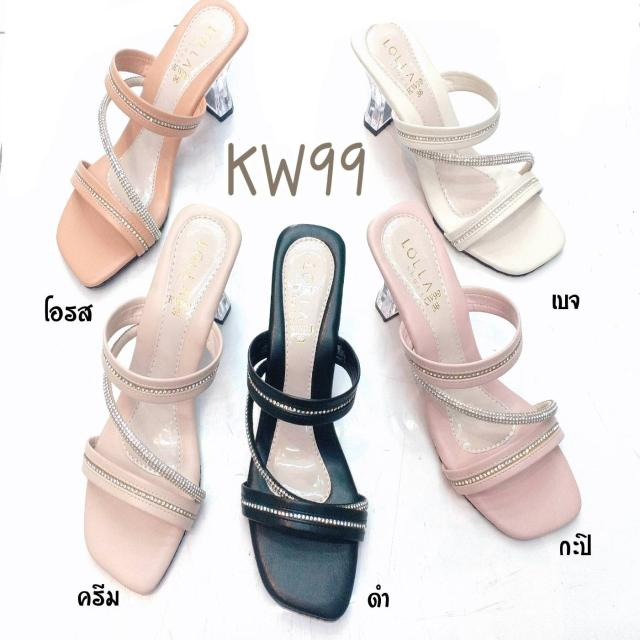bej: (271, 240, 361, 580), (372, 30, 545, 194)
cream: (120, 273, 215, 591)
kapi: (398, 223, 516, 524)
orot: (78, 36, 172, 241)
